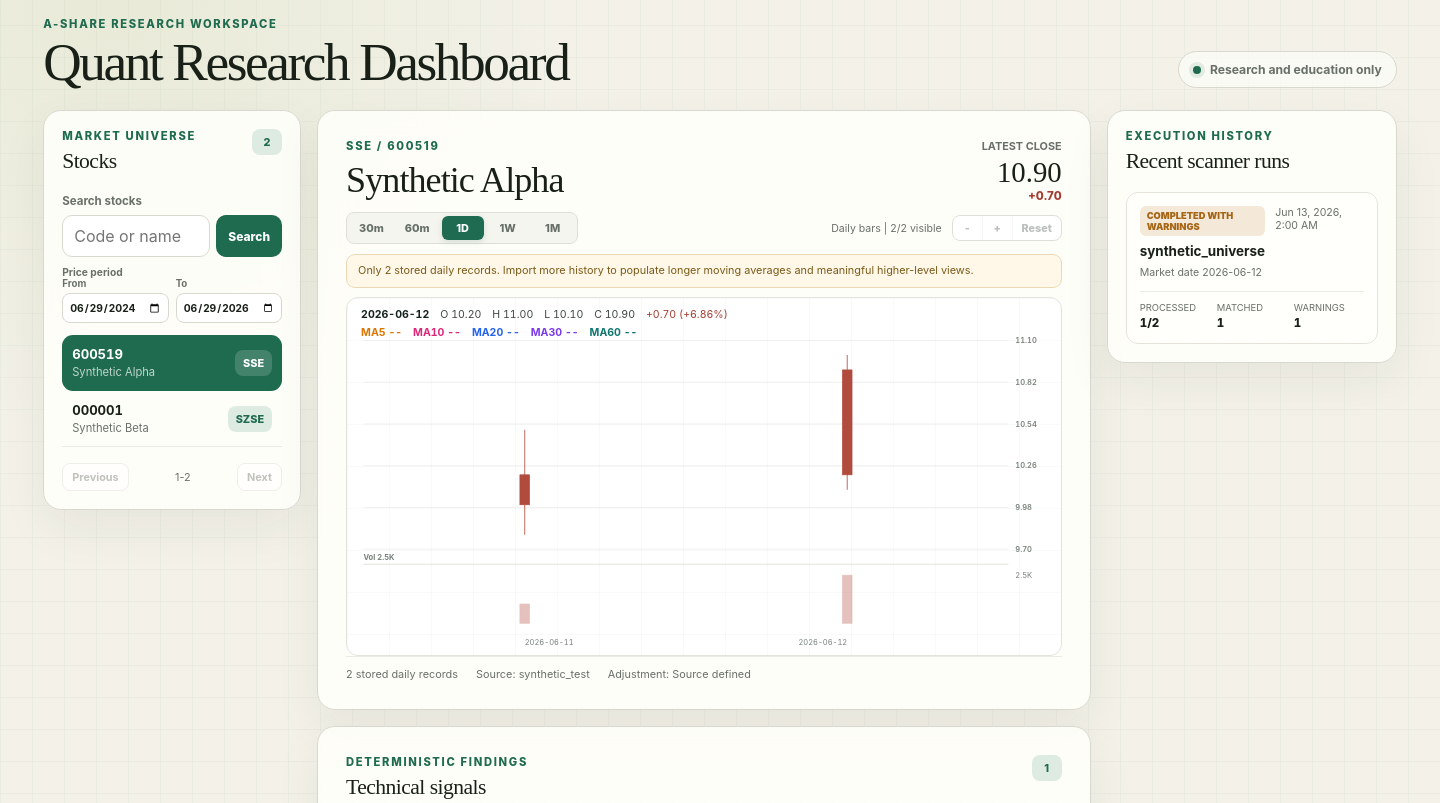
Test case: App › opens scanner-run detail and filters its matched signals
The width and height of the screenshot is (1440, 803).
Check: the heading "Synthetic Alpha" is shown, box [346,159,564,201]
Click the button with aria-label "Open scanner run synthetic_universe from 2026-06-12" at (1252, 268), box [1126,192,1378,344]
(page scrolled)
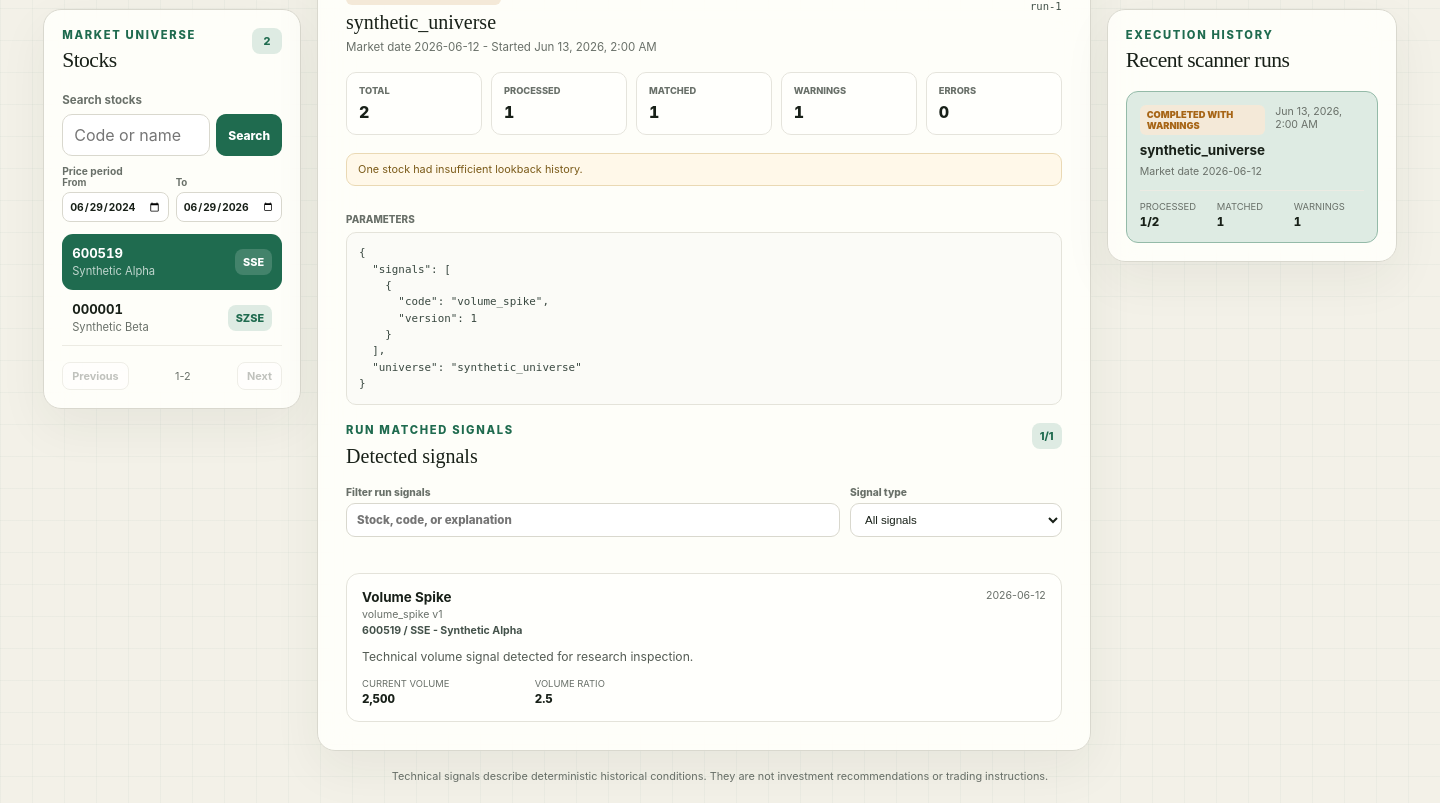
Check: the text "One stock had insufficient lookback history." is shown, box [346,152,1062,186]
Check: the heading "synthetic_universe" is shown, box [346,10,496,32]
Check: the text "600519 / SSE - Synthetic Alpha" is shown, box [362,624,522,637]
Type "Beta" into the search field labelled "Filter run signals" at (593, 520), box [346,503,840,537]
(page scrolled)
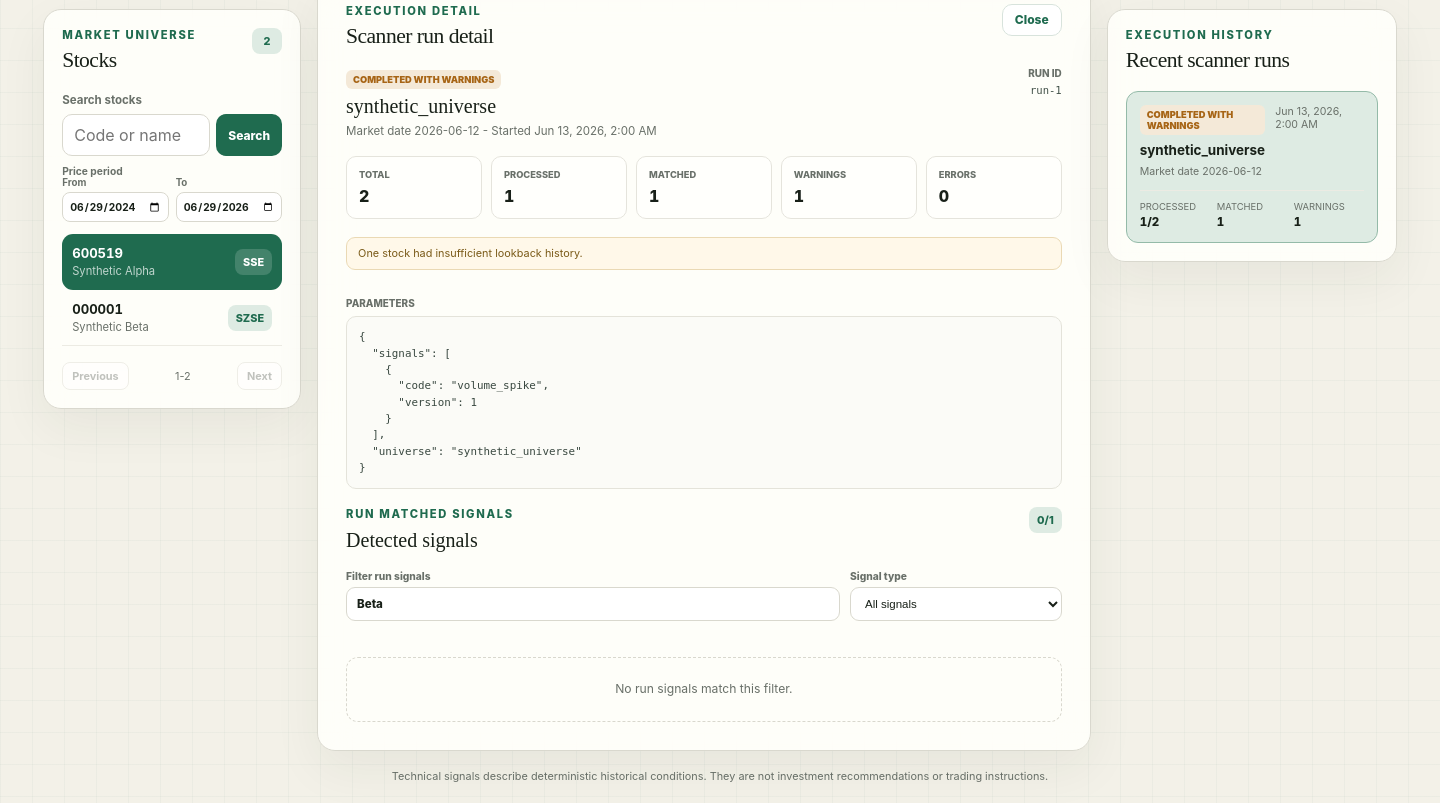
Check: the text "No run signals match this filter." is shown, box [346,657,1062,722]
